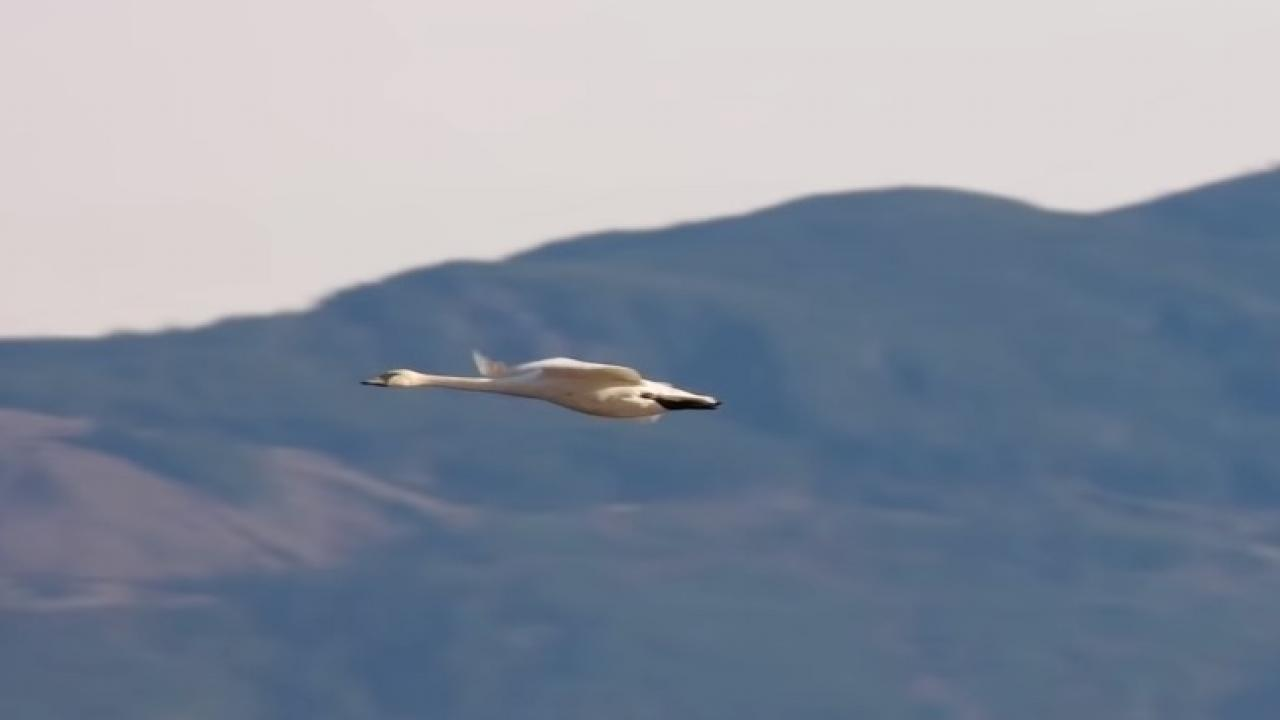Bird: (348, 345, 738, 432)
